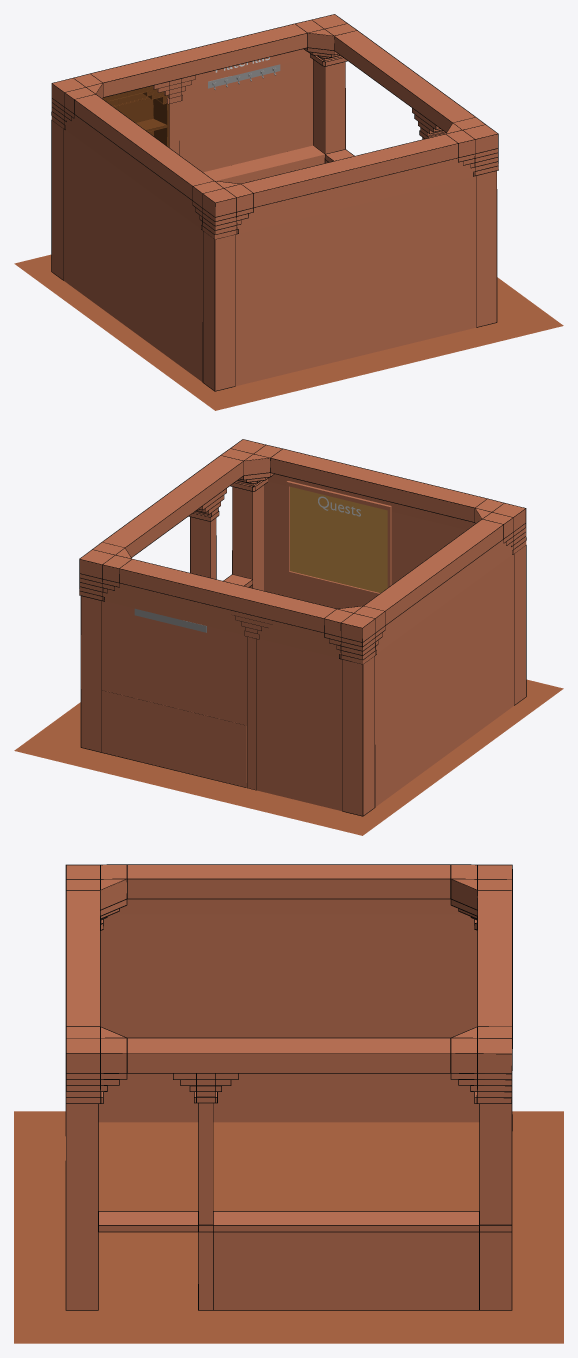
The model's file is Room1.1.fbx.
3 views of the same model, one above another, from view 1: azimuth 30°, elevation 25°; view 2: azimuth 150°, elevation 25°; view 3: azimuth 270°, elevation 25° (orthographic). The views are drawn at different scales.
Parts seen in each view (by area): view 1: YGC_new, Floor, YGC_wire, YGC_matdesk, Shelf_wbox, Shelf_pillar; view 2: YGC_new, Floor, Board, YGC_wire, Shelf_pillar, Hook_connecter; view 3: YGC_new, Floor, YGC_wire.
Boxes of the visible parts, x1=… form: YGC_new: x1=51, y1=14, x2=498, y2=390; Floor: x1=14, y1=254, x2=563, y2=410; YGC_wire: x1=51, y1=14, x2=498, y2=391; YGC_matdesk: x1=203, y1=145, x2=324, y2=183; Shelf_wbox: x1=103, y1=86, x2=169, y2=147; Shelf_pillar: x1=153, y1=75, x2=195, y2=154; YGC_new: x1=79, y1=439, x2=526, y2=815; Floor: x1=14, y1=679, x2=563, y2=835; Board: x1=286, y1=481, x2=391, y2=596; YGC_wire: x1=79, y1=439, x2=526, y2=816; Shelf_pillar: x1=242, y1=622, x2=261, y2=789; Hook_connecter: x1=134, y1=608, x2=206, y2=632; YGC_new: x1=66, y1=865, x2=511, y2=1309; Floor: x1=14, y1=1111, x2=563, y2=1343; YGC_wire: x1=65, y1=864, x2=512, y2=1310.
Bounding box in the file's own units: 2275 × 1185 × 2275.
